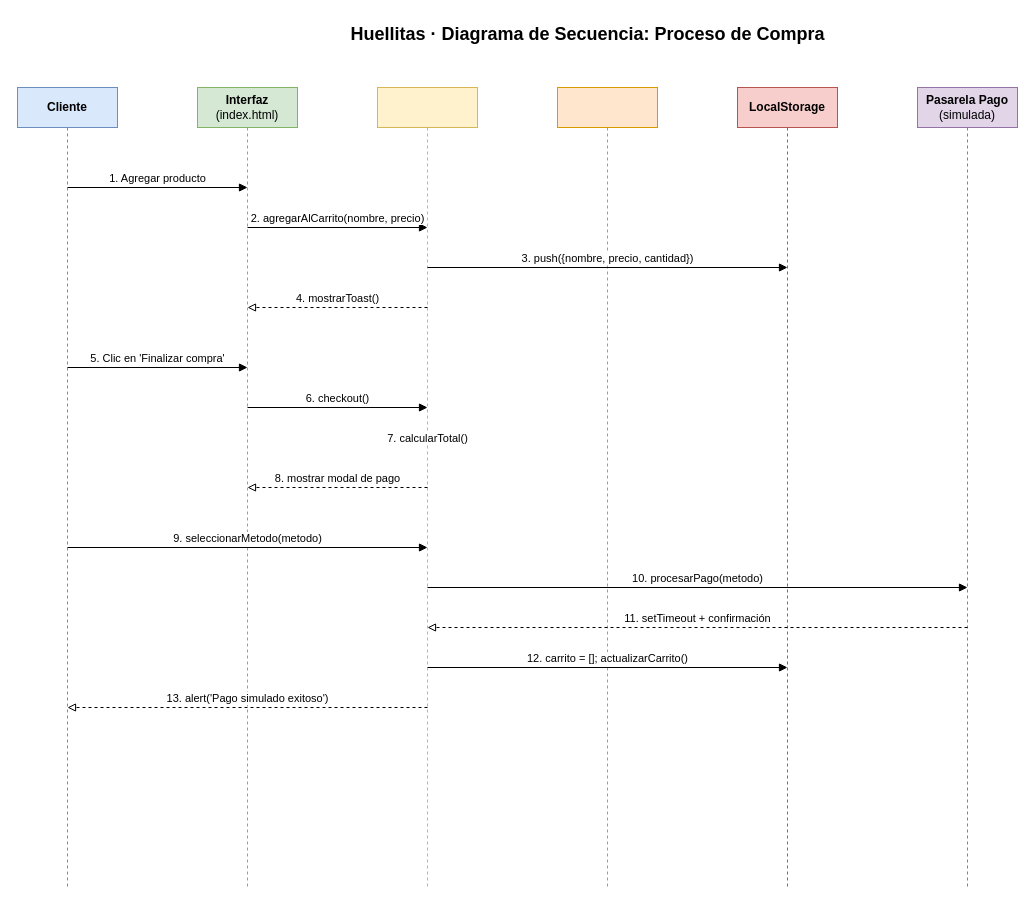
Some shapes in this 1035 by 905 pixel diagram are drawn without their labels. The shapes that lost their labels are listed below. From the top down, each one's box as (x1, y1, x2, y2) in pixels, then its label:
(376, 86, 478, 888): script.js
(556, 86, 658, 888): sesion.js
